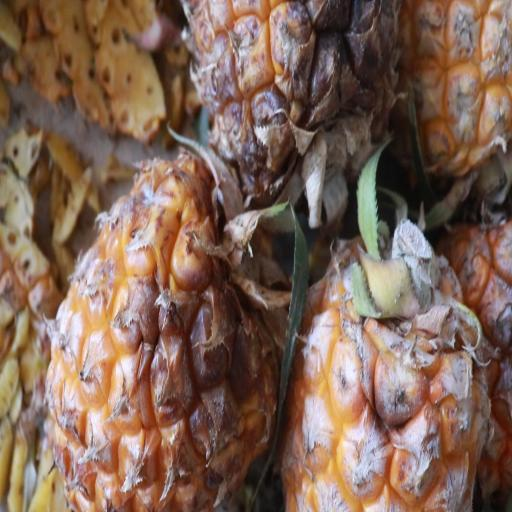Pineapple - v8 v1: (42, 146, 286, 512), (276, 224, 498, 512)
